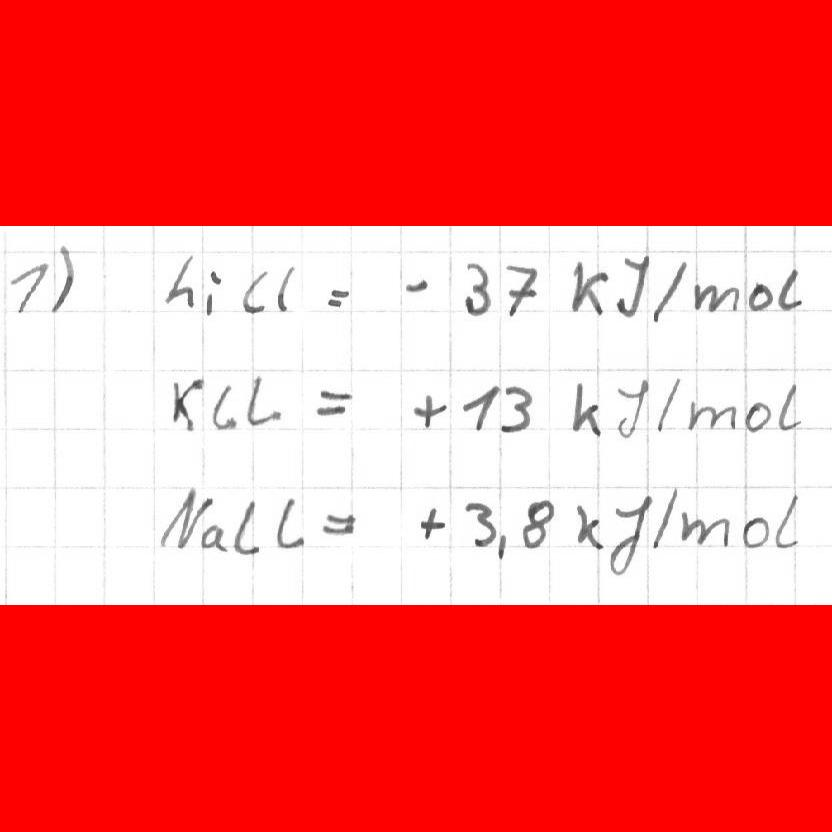Char: (606, 493, 654, 575), (156, 485, 205, 552), (568, 253, 610, 316), (610, 253, 651, 317), (6, 256, 50, 315), (612, 379, 652, 438), (651, 257, 686, 324), (503, 260, 541, 319), (163, 252, 197, 312), (567, 380, 604, 435), (231, 496, 262, 561), (168, 376, 203, 433), (519, 495, 555, 550), (461, 258, 492, 320), (652, 374, 684, 433), (771, 490, 801, 551), (691, 280, 743, 315), (459, 385, 496, 433), (244, 379, 281, 426), (274, 496, 305, 552), (463, 499, 498, 548), (652, 486, 678, 549), (50, 246, 75, 311), (498, 386, 533, 432), (683, 512, 727, 548), (239, 265, 269, 317), (686, 403, 738, 433), (211, 380, 239, 431), (411, 387, 444, 430), (573, 501, 602, 549), (775, 381, 800, 433), (417, 502, 449, 541), (314, 386, 351, 419), (776, 267, 802, 313), (276, 263, 296, 314), (322, 509, 358, 537), (740, 516, 769, 550), (199, 521, 227, 555), (205, 266, 223, 317), (744, 400, 770, 434), (324, 283, 352, 311), (748, 281, 774, 311), (401, 273, 430, 295), (495, 532, 507, 561)
